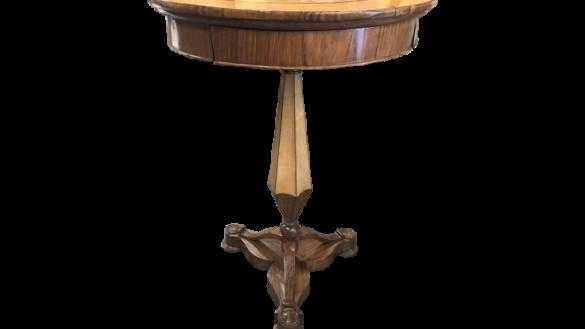obstacle: (149, 0, 436, 327)
